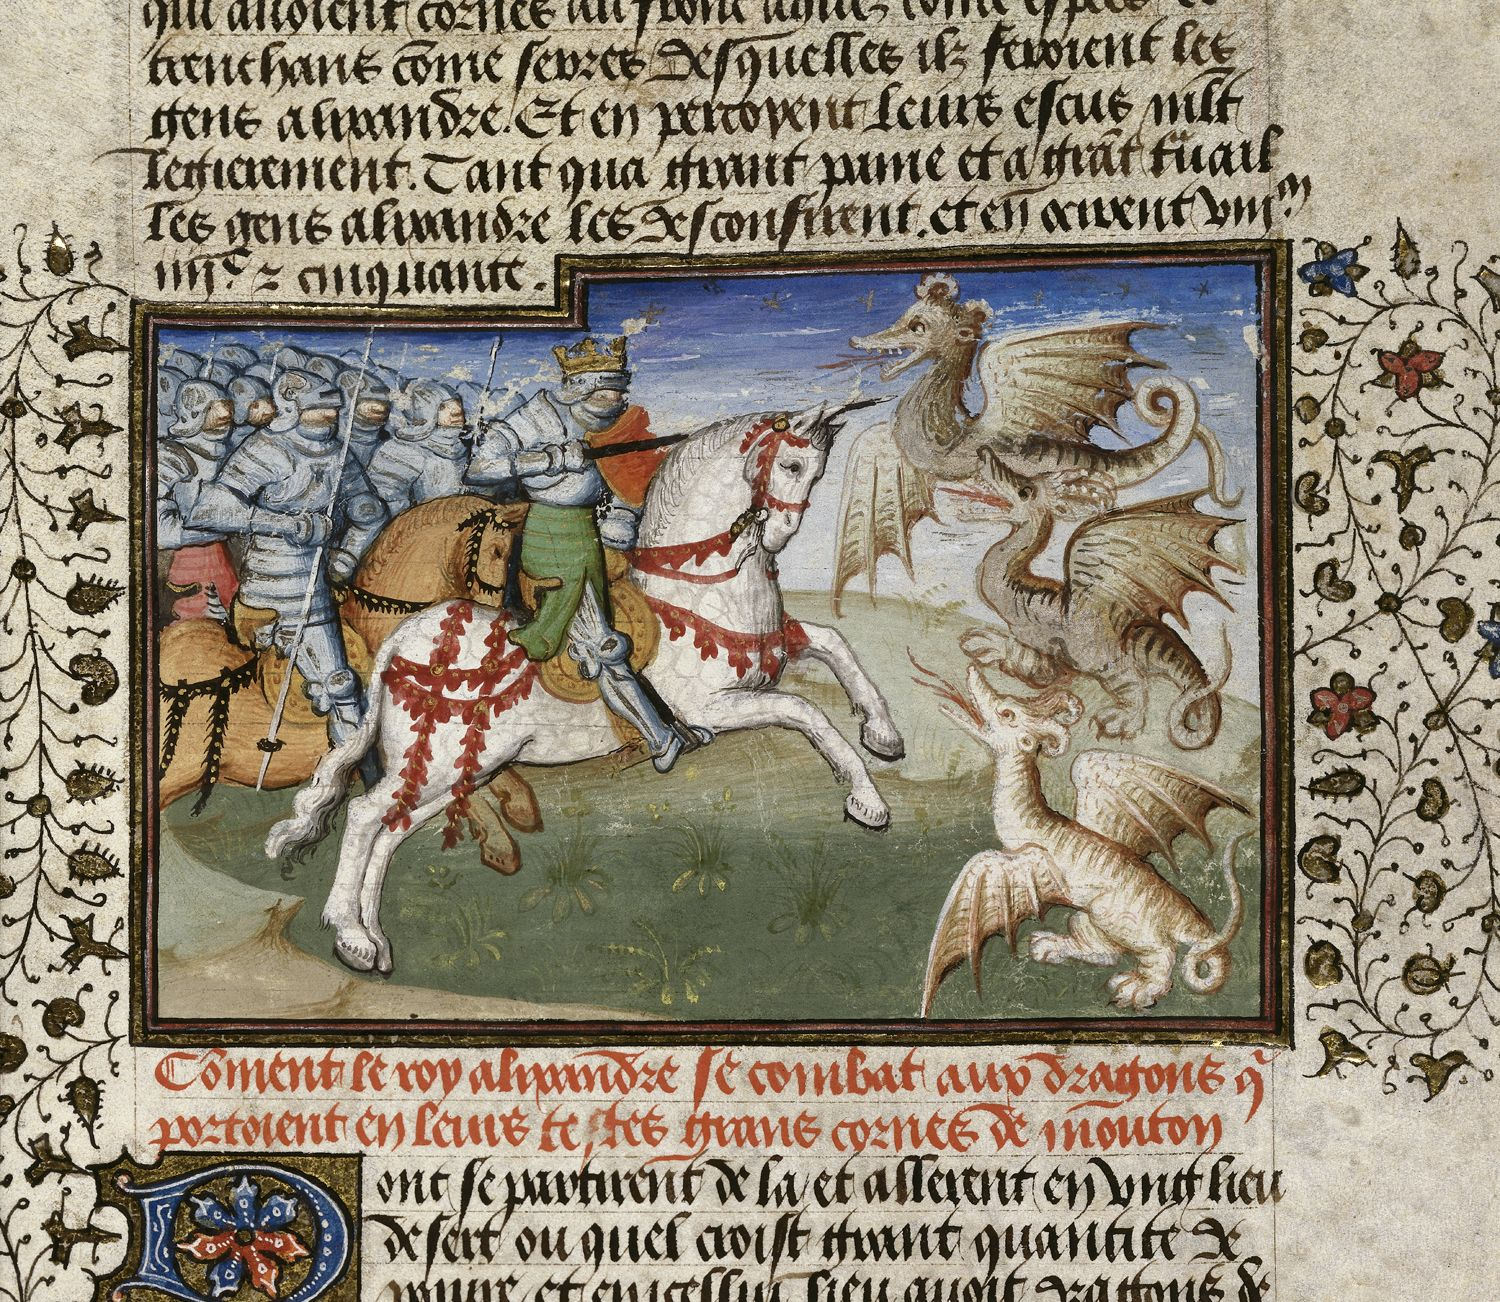crown: (548, 333, 628, 377)
dragon: (908, 650, 1254, 1005), (842, 283, 1253, 555), (958, 454, 1244, 743)
horse: (330, 414, 906, 969), (159, 496, 526, 842)
knight: (462, 349, 696, 772), (235, 377, 365, 743), (357, 386, 474, 500), (158, 383, 242, 532)
lance: (256, 324, 383, 817)
